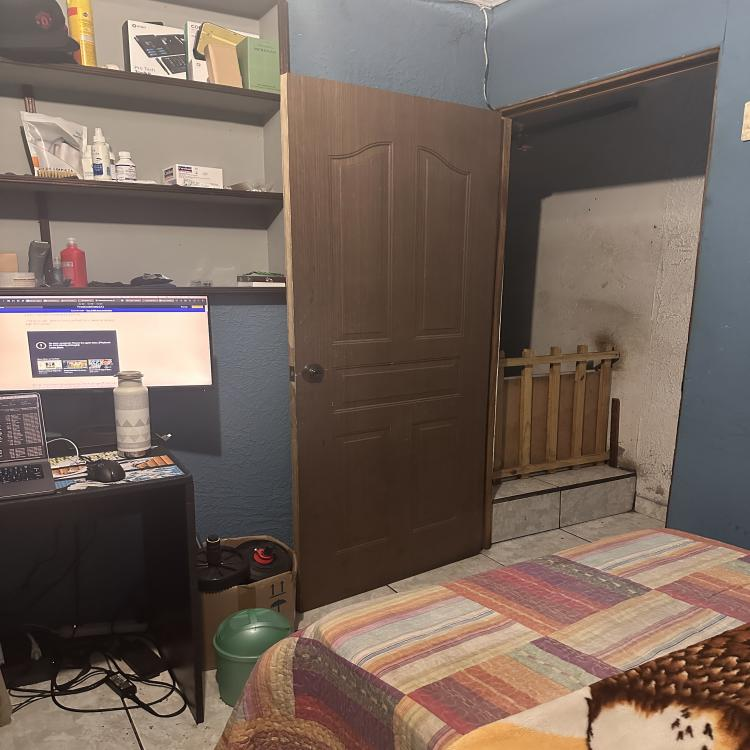OpenDoor: (501, 50, 702, 533)
